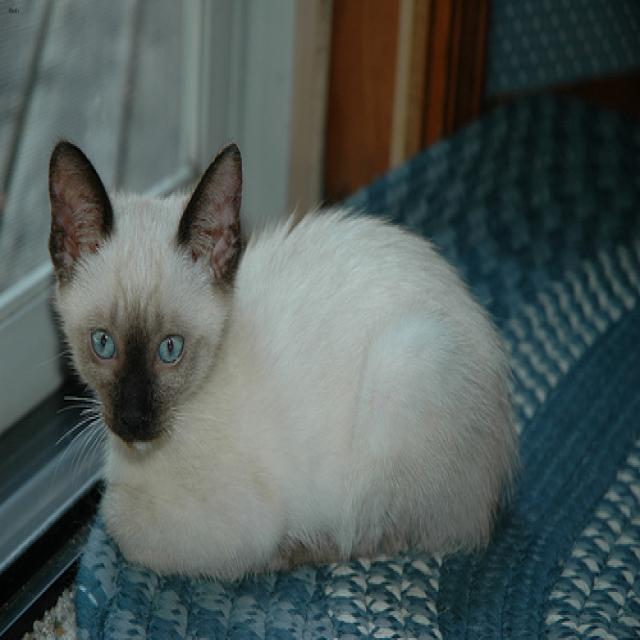cat: (46, 140, 239, 454)
